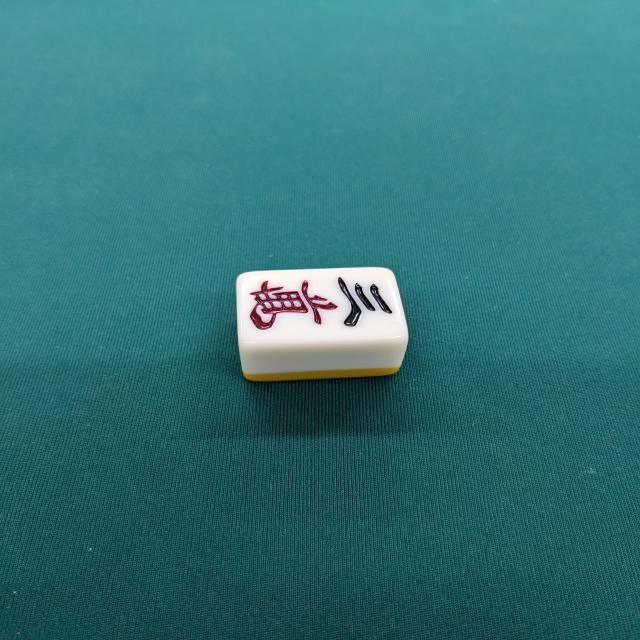3m: (234, 267, 409, 384)
